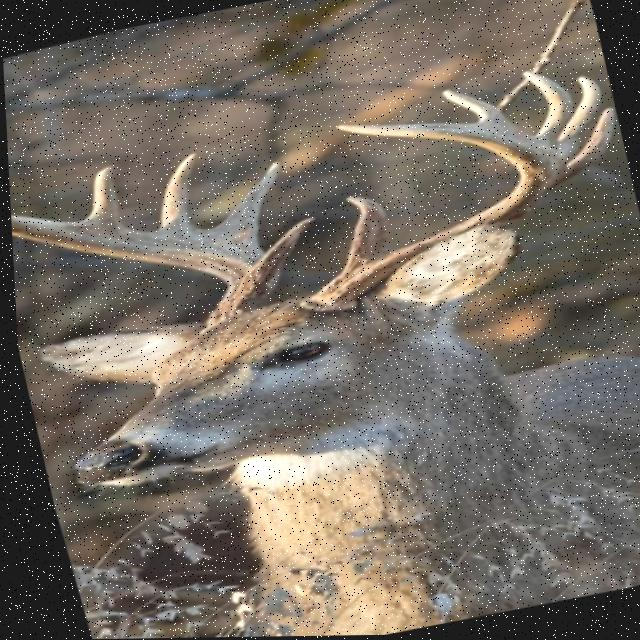L-F: (9, 214, 279, 330)
L-G1: (260, 217, 319, 266)
L-G2: (210, 161, 281, 240)
L-G3: (153, 152, 197, 230)
L-G4: (82, 164, 122, 226)
R-F: (292, 123, 564, 314)
R-G1: (339, 194, 390, 273)
R-G2: (565, 107, 615, 180)
R-G3: (555, 76, 601, 143)
R-G4: (518, 70, 571, 143)
R-G5: (437, 89, 509, 123)
